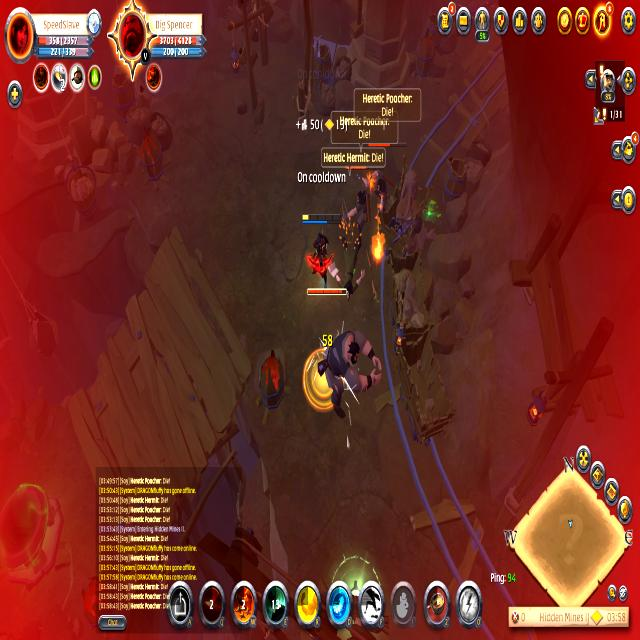ore: (302, 284, 384, 438), (366, 135, 410, 222), (338, 160, 378, 245)
red: (300, 211, 335, 277)
